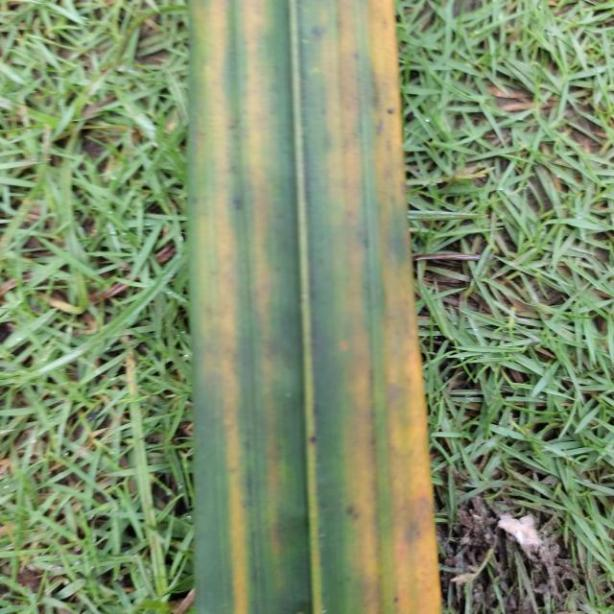Megnesium: (181, 0, 443, 614)
